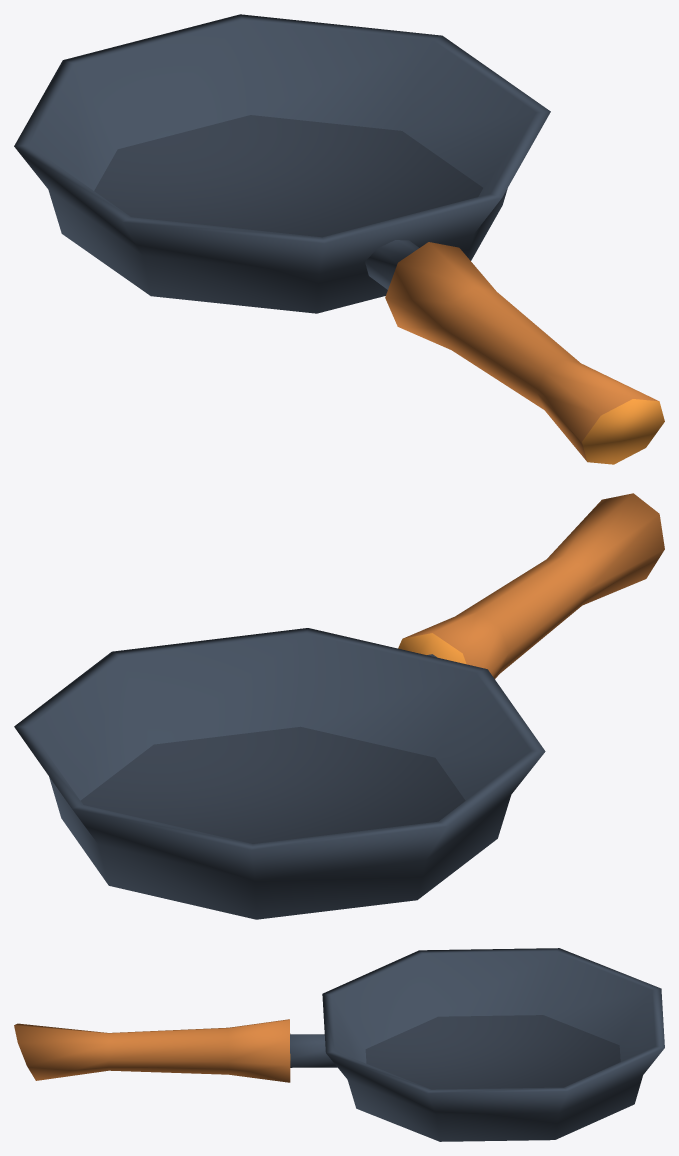
The model's file is skillet.fbx.
3 views of the same model, one above another, from view 1: azimuth 30°, elevation 25°; view 2: azimuth 150°, elevation 25°; view 3: azimuth 270°, elevation 25° (orthographic). The views are drawn at different scales.
Parts seen in each view (by area): view 1: Cylinder.002; view 2: Cylinder.002; view 3: Cylinder.002.
Part boxes in pixels (x1,y1,x2,y2): Cylinder.002: (14, 14, 664, 464); Cylinder.002: (14, 493, 664, 919); Cylinder.002: (14, 948, 664, 1141).
Size of the model in its own units: 35.99 by 7.32 by 68.38.
